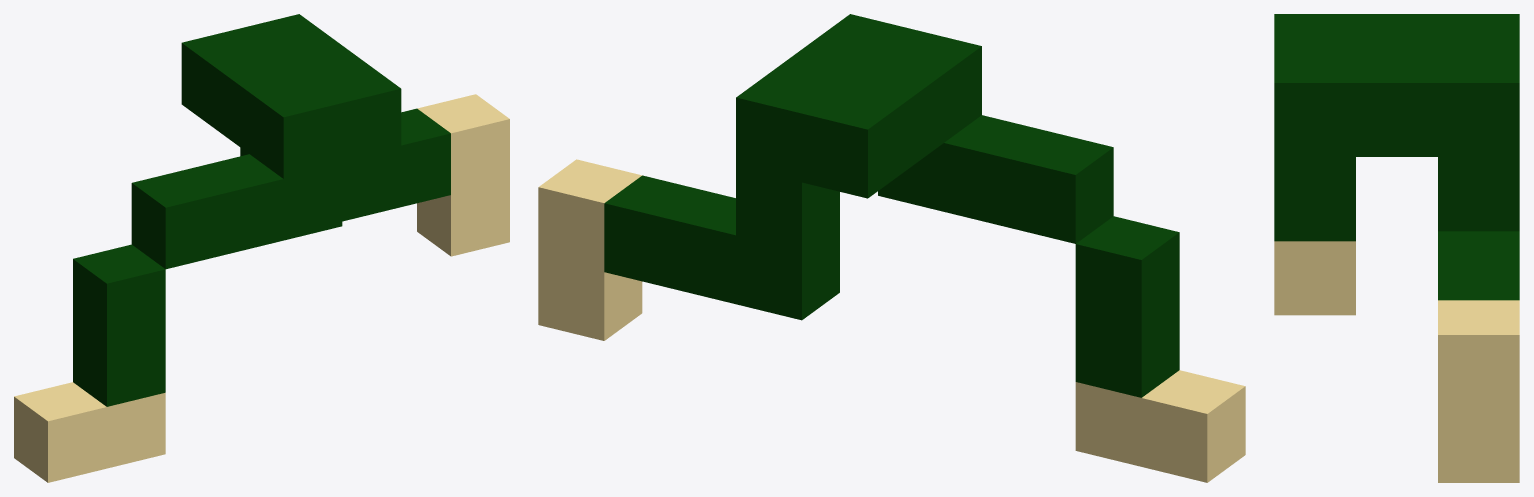
Rendered from thymea-6-torso_walk.obj.
3 renders of one model, left to right at view 1: azimuth 30°, elevation 25°; view 2: azimuth 150°, elevation 25°; view 3: azimuth 270°, elevation 25°, orthographic. The views are drawn at different scales.
Visible parts, largest first — view 1: torso_walk; view 2: torso_walk; view 3: torso_walk.
Part boxes in pixels (<box>): torso_walk: <box>14,14,509,482</box>; torso_walk: <box>538,14,1245,482</box>; torso_walk: <box>1274,14,1519,482</box>.
Size of the model in its own units: 0.9 by 0.5 by 0.3.
1 material, 1 textured.
